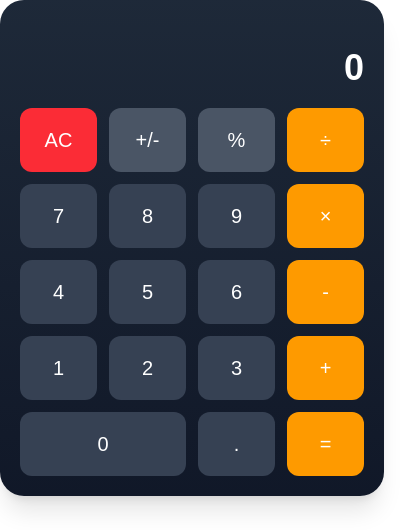
Test: Calculator Component › performs addition correctly
Input first number
Click the button "2".
click(148, 368)  # box [109,336,186,400]
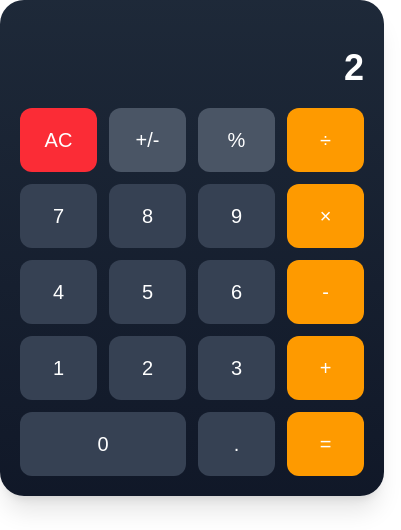
Select operation
Click the button named "Add".
click(326, 368)  # box [287,336,364,400]
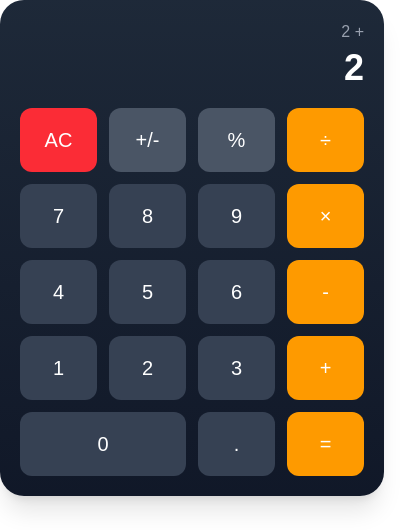
Input second number
Click the button "3".
click(236, 368)  # box [198,336,275,400]
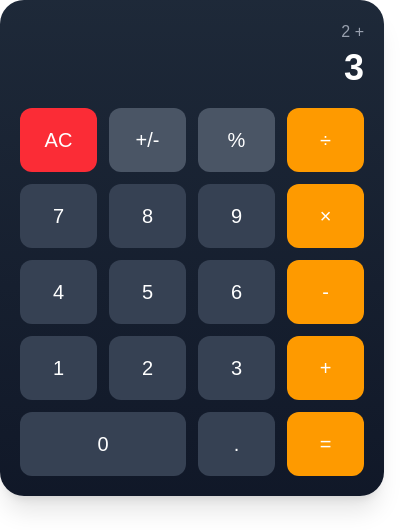
Perform calculation
Click the button named "Equals".
click(326, 444)  # box [287,412,364,476]
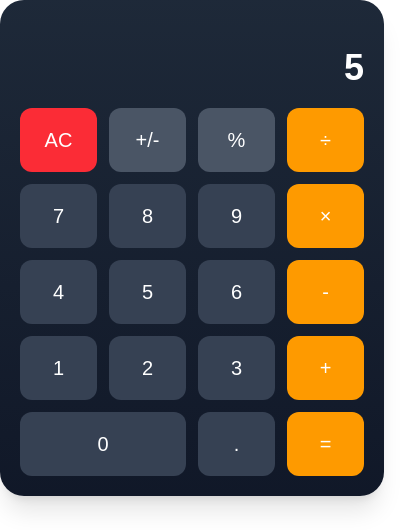
Check: the text with test id "display" reads "5", box [344,47,364,88]
